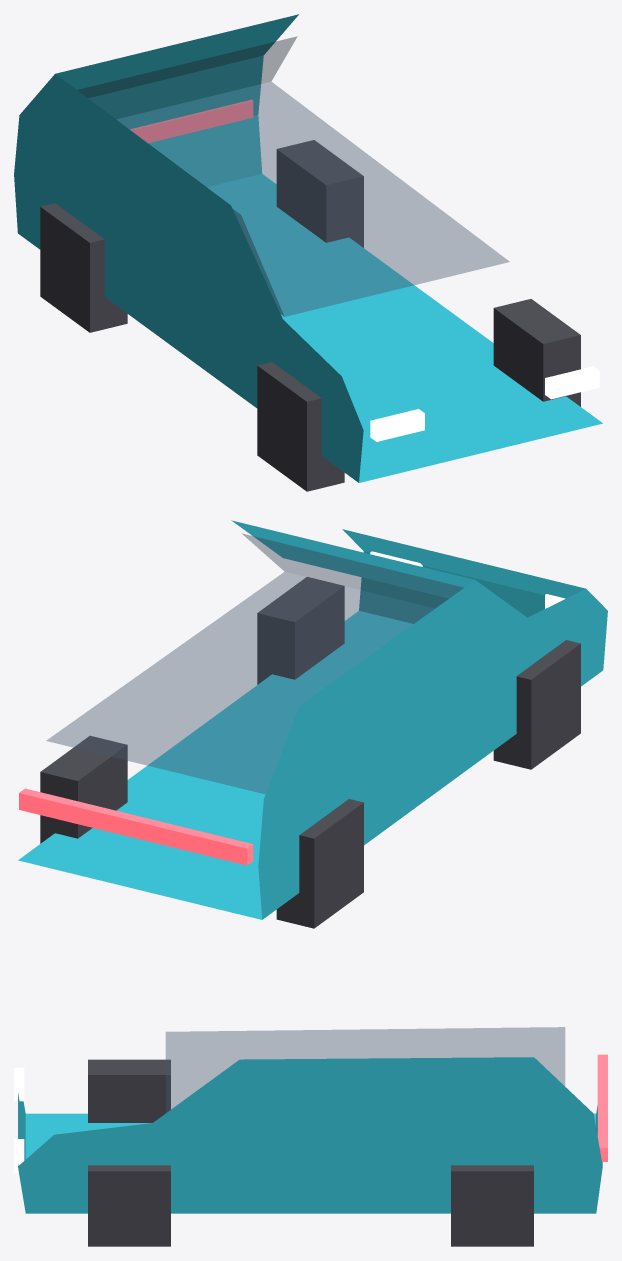
The model's file is angkot.glb.
The picture shows the model from 3 angles, top to bottom: view 1: azimuth 30°, elevation 25°; view 2: azimuth 150°, elevation 25°; view 3: azimuth 270°, elevation 25°; orthographic projection. The views are drawn at different scales.
Visible parts, largest first — view 1: mpv_body, cabin_glass, wheel_0, wheel_2, wheel_3, wheel_1, taillight, headlight_L, headlight_R; view 2: mpv_body, cabin_glass, wheel_2, wheel_0, wheel_1, wheel_3, taillight; view 3: mpv_body, cabin_glass, wheel_1, wheel_3, wheel_0, taillight.
Boxes of the visible parts, x1=… form: mpv_body: x1=14, y1=14, x2=602, y2=482; cabin_glass: x1=77, y1=36, x2=509, y2=316; wheel_0: x1=257, y1=362, x2=344, y2=491; wheel_2: x1=40, y1=203, x2=127, y2=332; wheel_3: x1=276, y1=140, x2=363, y2=247; wheel_1: x1=493, y1=299, x2=580, y2=406; taillight: x1=130, y1=99, x2=253, y2=142; headlight_L: x1=370, y1=409, x2=424, y2=441; headlight_R: x1=545, y1=366, x2=599, y2=399; mpv_body: x1=18, y1=520, x2=607, y2=919; cabin_glass: x1=46, y1=533, x2=463, y2=793; wheel_2: x1=276, y1=799, x2=363, y2=928; wheel_0: x1=493, y1=640, x2=580, y2=769; wheel_1: x1=257, y1=577, x2=344, y2=684; wheel_3: x1=40, y1=736, x2=127, y2=843; taillight: x1=19, y1=788, x2=253, y2=865; mpv_body: x1=18, y1=1057, x2=602, y2=1213; cabin_glass: x1=166, y1=1027, x2=564, y2=1112; wheel_1: x1=88, y1=1165, x2=170, y2=1246; wheel_3: x1=451, y1=1165, x2=533, y2=1246; wheel_0: x1=88, y1=1059, x2=170, y2=1122; taillight: x1=597, y1=1054, x2=607, y2=1161.
Bounding box in the file's own units: 2.04 × 1.56 × 4.58.
